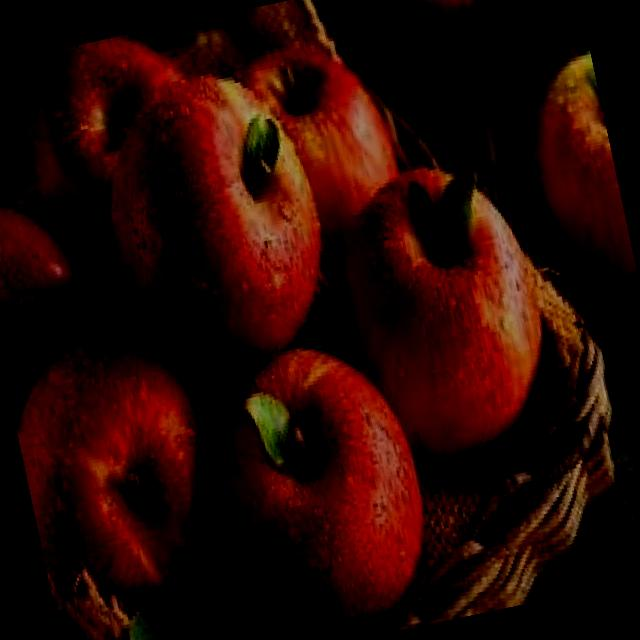Apple: (83, 49, 347, 384), (314, 145, 573, 485), (193, 325, 448, 640), (2, 312, 242, 630), (9, 24, 222, 281), (230, 21, 416, 257), (513, 46, 640, 332), (0, 177, 102, 402), (369, 0, 522, 43)
